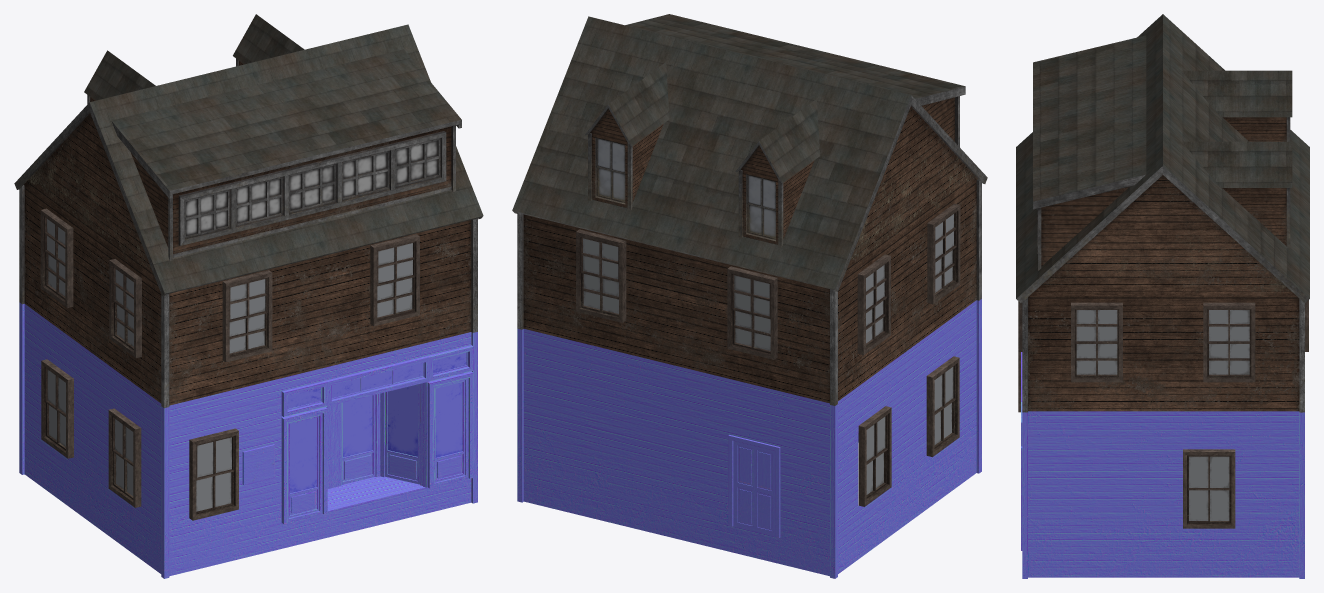
The model's file is RoofTop_Background9.fbx.
The picture shows the model from 3 angles, left to right: view 1: azimuth 30°, elevation 25°; view 2: azimuth 150°, elevation 25°; view 3: azimuth 270°, elevation 25°; orthographic projection. The views are drawn at different scales.
Visible parts, largest first — view 1: t_002_b001_1_1, t_002_br_opt_01, t_002_b002_2_1, t_002_br001_1, window_002_2, window_002_3, window_001_1, window_001_2, window_002_4, window_001_3, window_002_1, t_002_br_opt_02 (+2 smaller); view 2: t_002_b001_1_1, t_002_br001_1, t_002_b002_2_1, t_002_br_opt_01, t_002_br_opt_02, t_002_br_opt_02__1_, t002_door001, window_002_3_1, window_002_1__1_, window_002_4, window_001_3, window_002_1 (+1 smaller); view 3: t_002_b001_1_1, t_002_br001_1, t_002_b002_2_1, t_002_br_opt_01, t_002_br_opt_02__1_, t_002_br_opt_02, window_002_4__1_, window_001_4, window_002_2_1.
Part boxes in pixels (<box>): t_002_b001_1_1: <box>19,302,477,578</box>; t_002_br_opt_01: <box>111,49,461,260</box>; t_002_b002_2_1: <box>19,185,477,408</box>; t_002_br001_1: <box>14,24,483,296</box>; window_002_2: <box>222,270,272,362</box>; window_002_3: <box>370,234,419,326</box>; window_001_1: <box>189,428,238,520</box>; window_001_2: <box>108,408,141,507</box>; window_002_4: <box>40,208,73,307</box>; window_001_3: <box>41,359,73,458</box>; window_002_1: <box>109,259,141,358</box>; t_002_br_opt_02: <box>84,50,155,104</box>; t_002_b001_1_1: <box>517,299,981,578</box>; t_002_br001_1: <box>512,16,987,291</box>; t_002_b002_2_1: <box>517,179,981,405</box>; t_002_br_opt_01: <box>625,14,965,146</box>; t_002_br_opt_02: <box>735,99,820,247</box>; t_002_br_opt_02__1_: <box>585,62,669,210</box>; t002_door001: <box>728,435,780,538</box>; window_002_3_1: <box>727,266,777,359</box>; window_002_1__1_: <box>576,229,626,322</box>; window_002_4: <box>857,254,890,355</box>; window_001_3: <box>858,406,891,506</box>; window_002_1: <box>927,203,960,304</box>; t_002_b001_1_1: <box>1021,352,1304,578</box>; t_002_br001_1: <box>1016,14,1309,302</box>; t_002_b002_2_1: <box>1022,296,1304,412</box>; t_002_br_opt_01: <box>1033,35,1146,270</box>; t_002_br_opt_02__1_: <box>1182,141,1292,249</box>; t_002_br_opt_02: <box>1182,70,1292,141</box>; window_002_4__1_: <box>1203,302,1255,382</box>; window_001_4: <box>1183,449,1235,528</box>; window_002_2_1: <box>1071,302,1122,382</box>.
Bounding box in the file's own units: 1009 × 1277 × 821.
